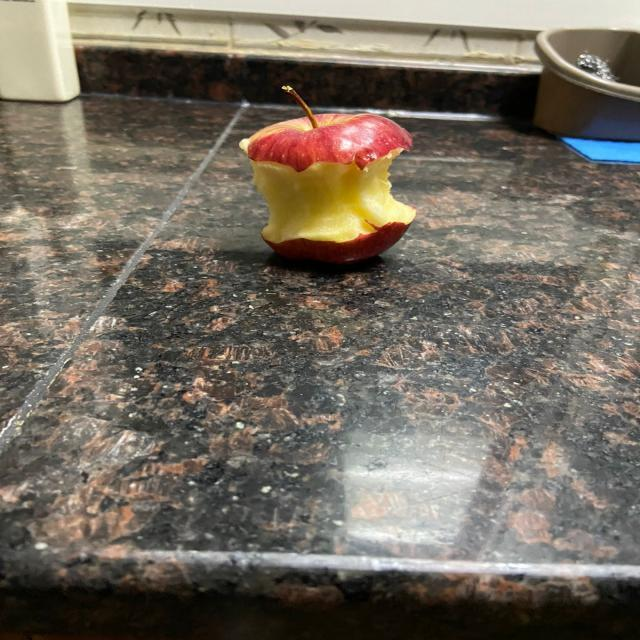apple: (230, 78, 420, 266)
